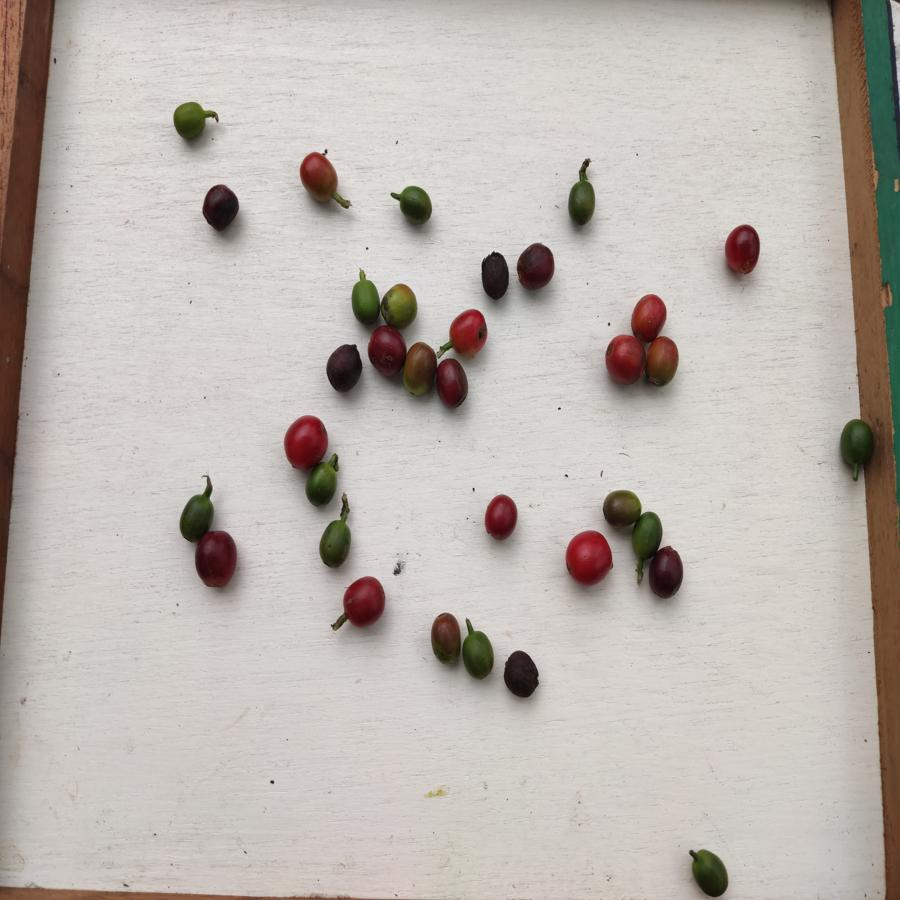Inmaduro: (837, 416, 877, 472), (686, 849, 730, 899), (173, 493, 214, 541), (563, 179, 602, 228), (397, 182, 438, 228), (318, 516, 353, 568), (172, 101, 211, 145), (463, 628, 496, 680), (308, 459, 342, 508), (349, 278, 382, 327), (634, 510, 663, 558)
Maduro: (341, 575, 397, 630), (563, 527, 616, 585), (445, 308, 500, 360), (279, 415, 333, 467), (604, 334, 646, 388), (631, 291, 669, 338), (485, 492, 521, 541)
Pinton: (297, 151, 348, 218), (428, 609, 463, 668), (378, 277, 420, 324), (403, 339, 435, 400), (602, 487, 644, 527), (648, 337, 681, 387)
Sobremaduro: (196, 528, 240, 592), (648, 543, 688, 604), (516, 242, 561, 294), (723, 220, 761, 281), (325, 342, 366, 393), (501, 648, 541, 700), (201, 183, 242, 232), (368, 327, 406, 376), (481, 249, 512, 303), (436, 360, 471, 406)
